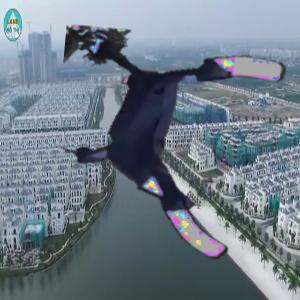drone: (57, 33, 283, 259)
